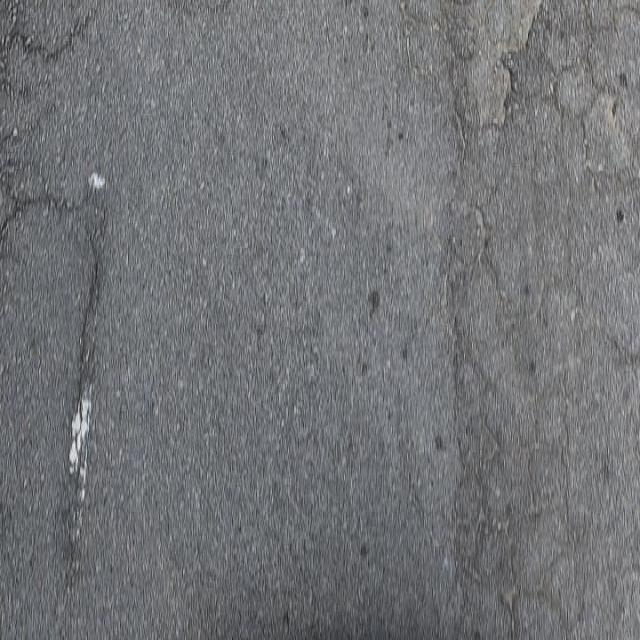cracks: (406, 0, 640, 640)
potholes: (43, 222, 119, 564)
